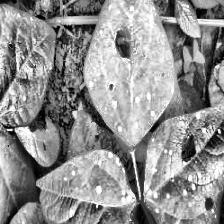Bean Rust: (84, 0, 174, 147), (142, 89, 224, 224), (33, 151, 139, 224)
